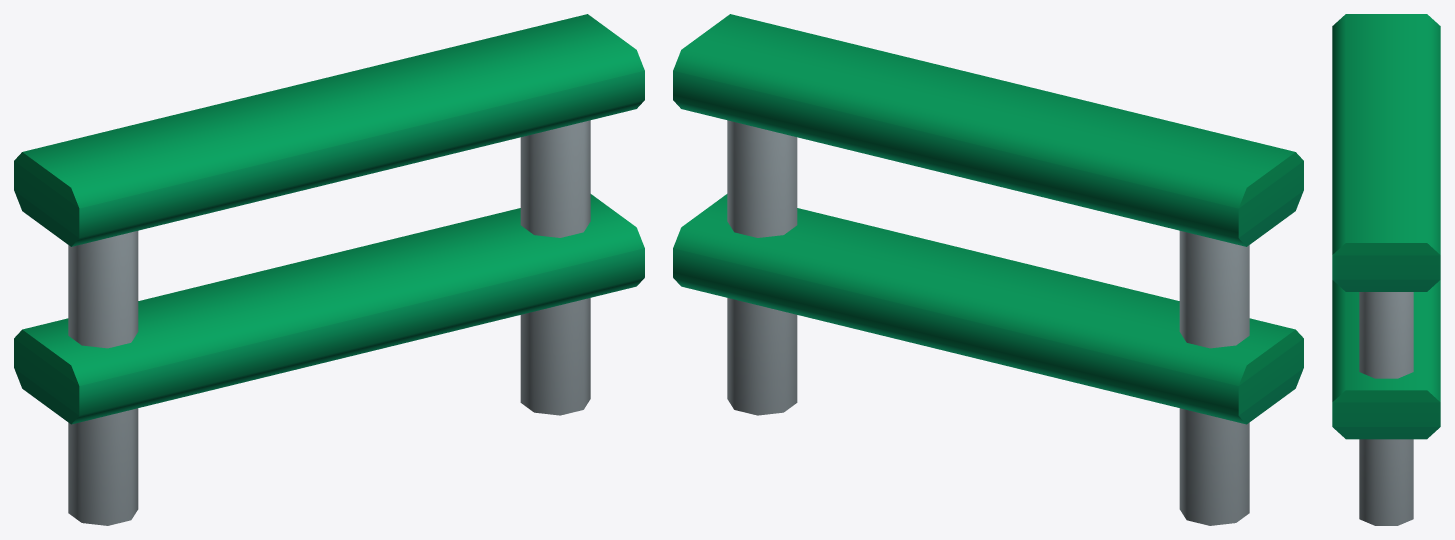
Rendered from kaykit_railing_straight_double_green.glb.
The picture shows the model from 3 angles, left to right: view 1: azimuth 30°, elevation 25°; view 2: azimuth 150°, elevation 25°; view 3: azimuth 270°, elevation 25°; orthographic projection. The views are drawn at different scales.
Visible parts, largest first — view 1: railing_straight_double_green_visual; view 2: railing_straight_double_green_visual; view 3: railing_straight_double_green_visual.
Boxes of the visible parts, x1,y1,x2,y2 form: railing_straight_double_green_visual: (14,14,644,525); railing_straight_double_green_visual: (673,14,1303,525); railing_straight_double_green_visual: (1332,14,1440,525).
Size of what is drawn, in the model's own units: 2 by 1.2 by 0.4.
1 material, 1 textured.
